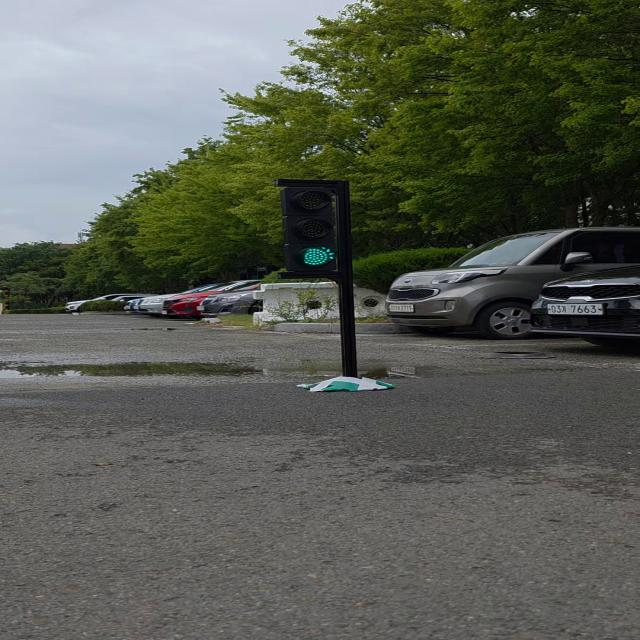green: (282, 176, 345, 276)
